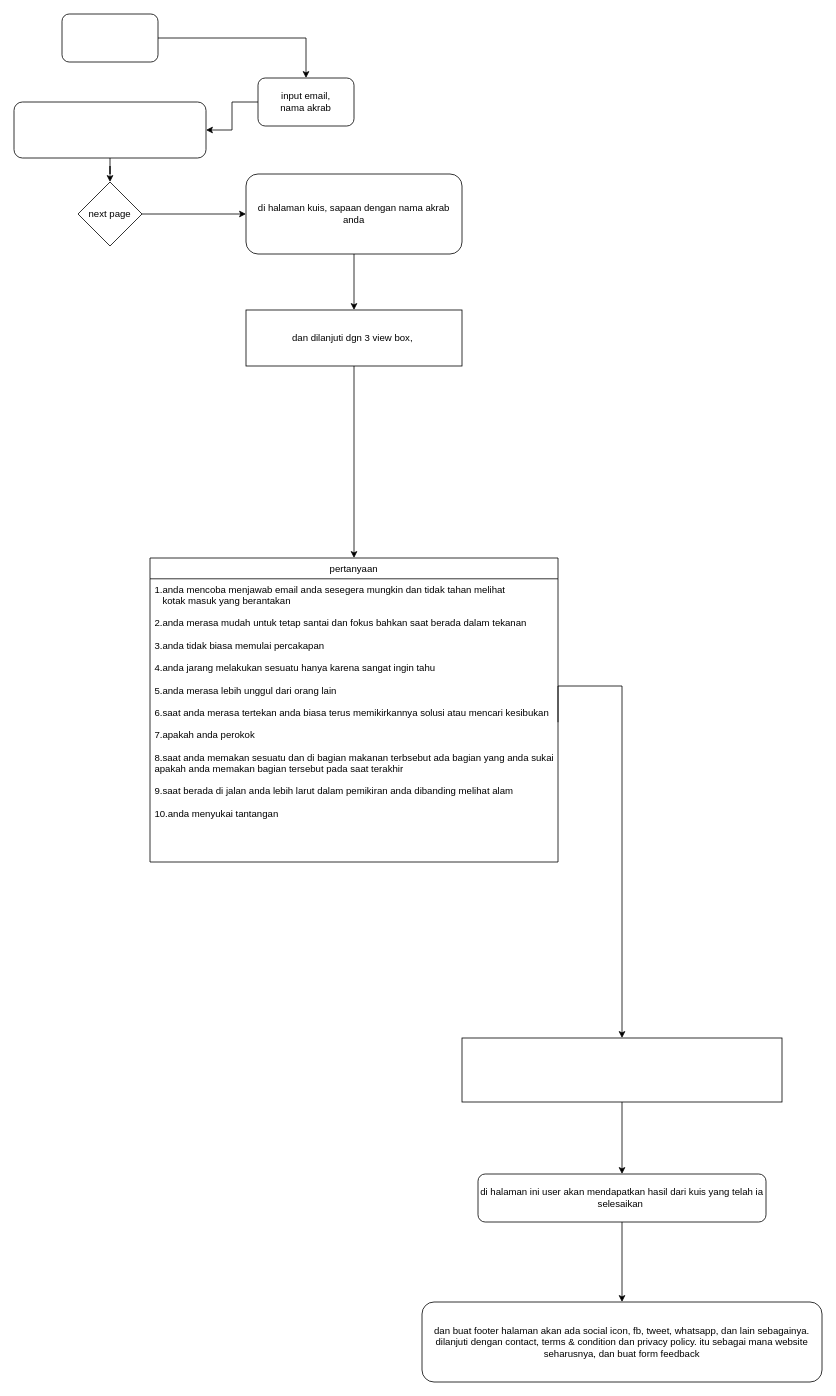
The diagram is 836 pixels wide and 1396 high, and some of its shapes have lost their labels. Each missing label, with the box of its shape:
setelah dia mengisi kuis kuis tersebut, ia akan dialihkan ke next page,: (461, 1037, 782, 1102)
start: (61, 13, 158, 62)
submit, button yang menuju ke halaman kuis, setelah mengisi form email: (13, 101, 206, 158)
